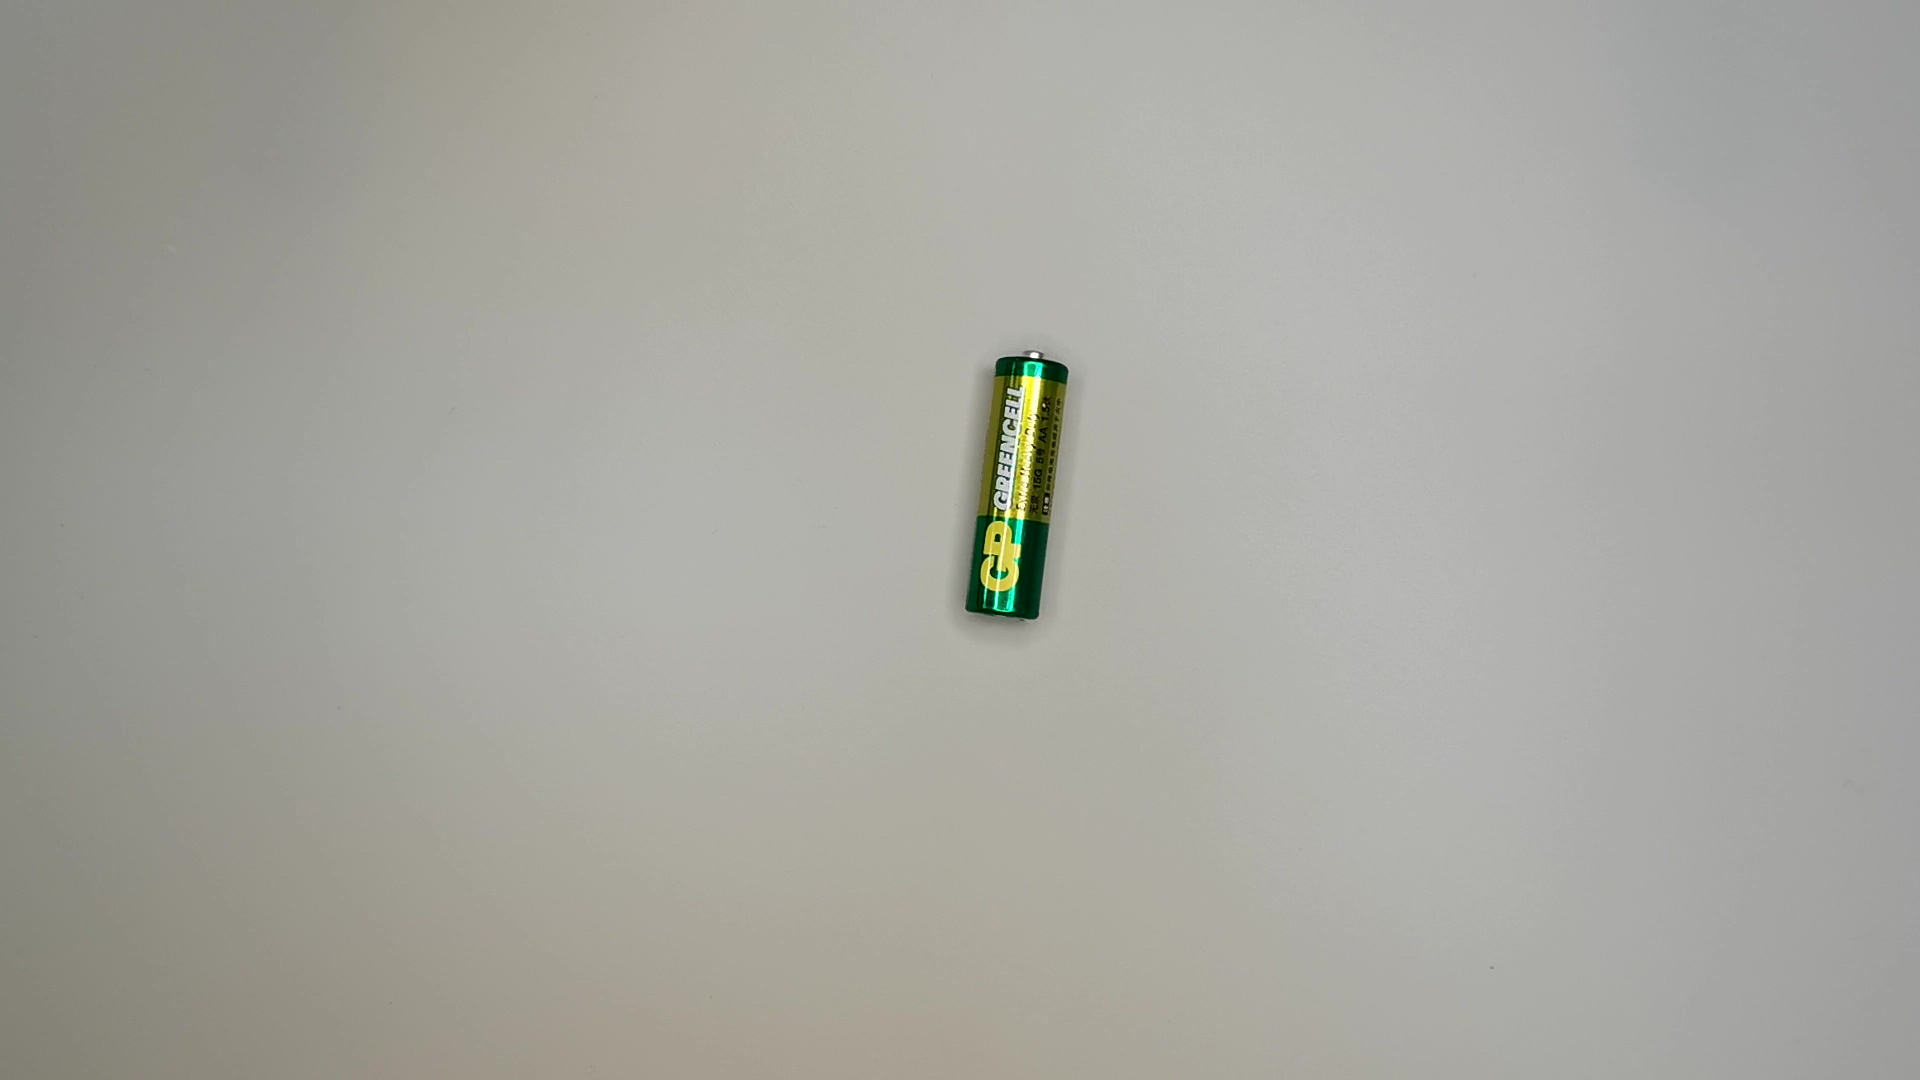battery: (952, 343, 1083, 622)
